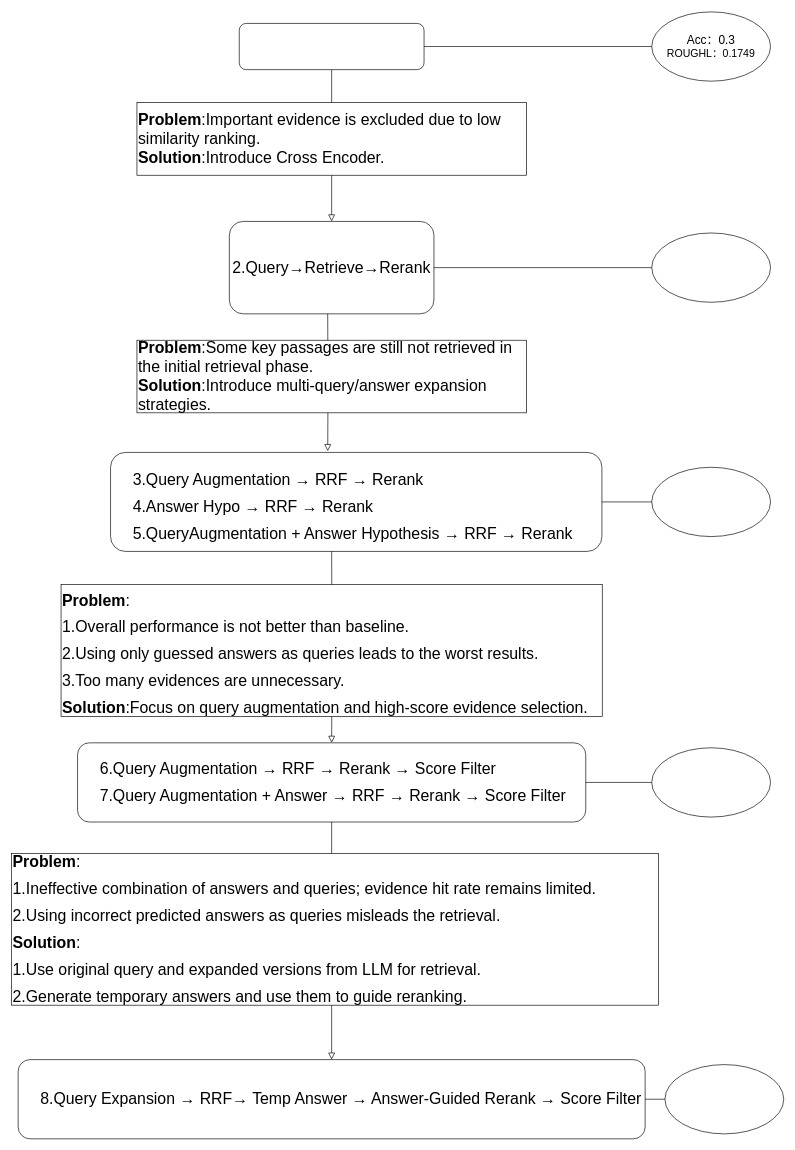
Image size: 795x1150. Some labels were removed from this diagram. Each missing label, with the centre of its shape:
1.Query→Retrieve Top K: the point at 331,46
Acc：0.34 ROUGHL：0.2043 ↑: the point at 711,782
Acc：0.36 ROUGHL：0.1857: the point at 711,502
Acc：0.36 ROUGHL：0.2809 ↑: the point at 724,1099
Acc：0.38↑ ROUGHL：0.1880 ↑: the point at 711,267
